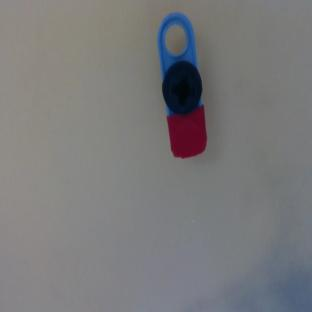part_1_good: (155, 10, 209, 159)
